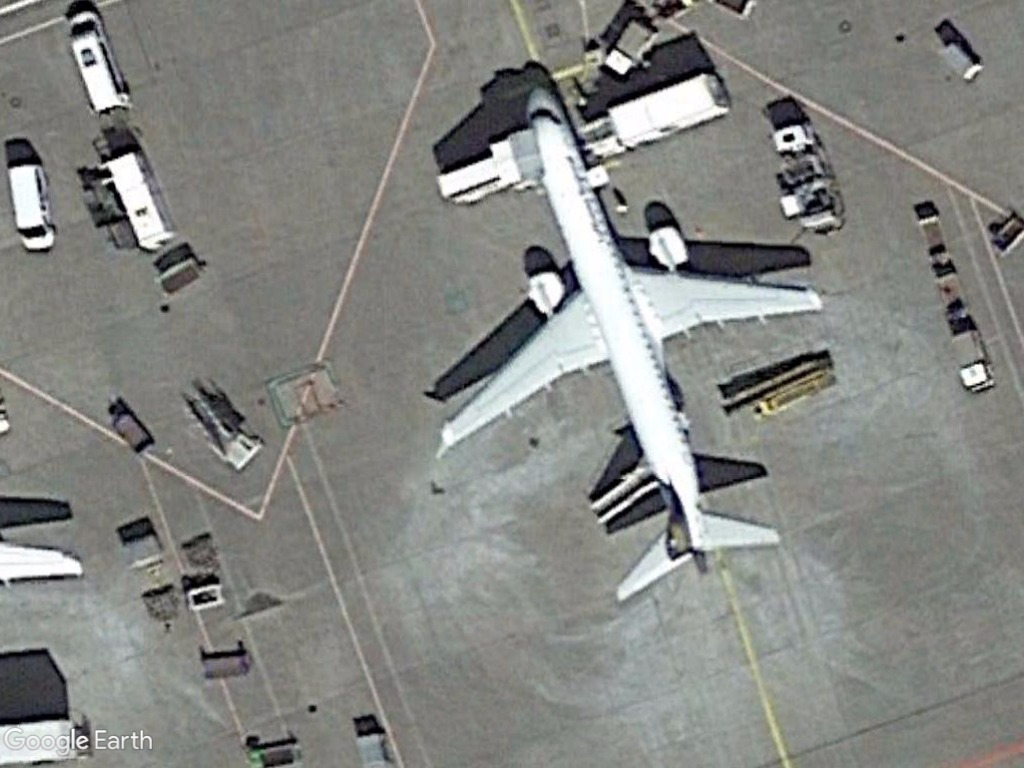airliner: (412, 82, 833, 598)
van: (67, 6, 137, 119), (0, 154, 66, 258)
